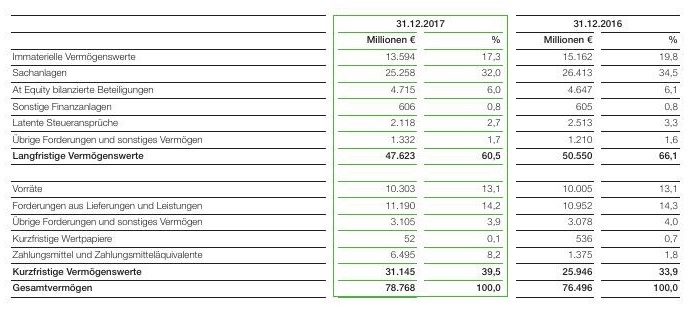table: (0, 0, 695, 314)
